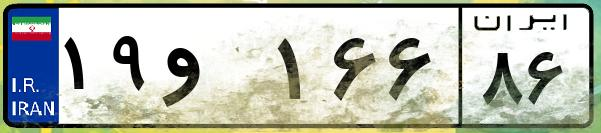1: (270, 28, 330, 110), (57, 26, 110, 100)
6: (385, 28, 445, 110), (330, 28, 385, 110), (525, 38, 570, 115)
8: (475, 38, 525, 113)
9: (110, 28, 158, 98)
و: (158, 20, 270, 120)
